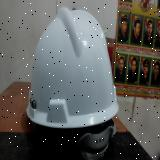Helmet: (26, 6, 119, 128)
